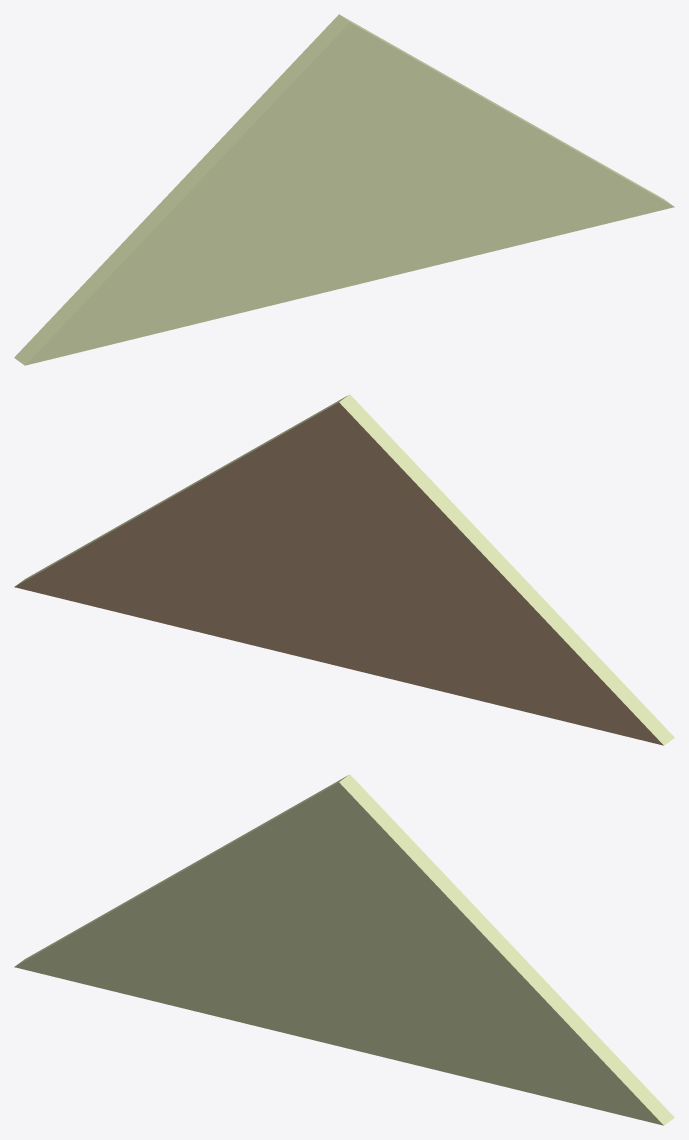
File: Wall2_C5_16.fbx
3 renders of one model, top to bottom at view 1: azimuth 30°, elevation 25°; view 2: azimuth 150°, elevation 25°; view 3: azimuth 330°, elevation 25°, orthographic.
Parts seen in each view (by area): view 1: Wall2_C5_16; view 2: Wall2_C5_16; view 3: Wall2_C5_16.
Boxes of the visible parts, x1=… form: Wall2_C5_16: x1=14, y1=14, x2=674, y2=365; Wall2_C5_16: x1=14, y1=394, x2=674, y2=745; Wall2_C5_16: x1=14, y1=774, x2=674, y2=1125.
Size of the model in its own units: 515 by 200 by 15.
